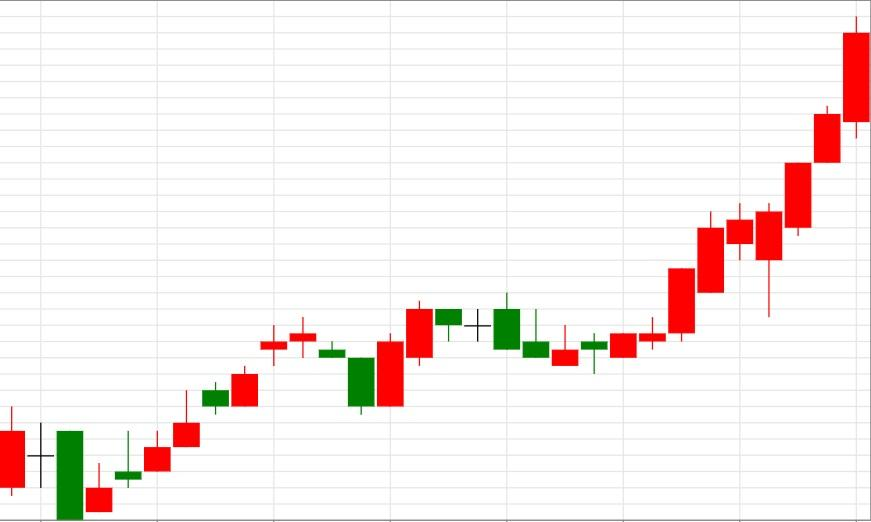bullish_engulfing_rise: (288, 317, 405, 415)
